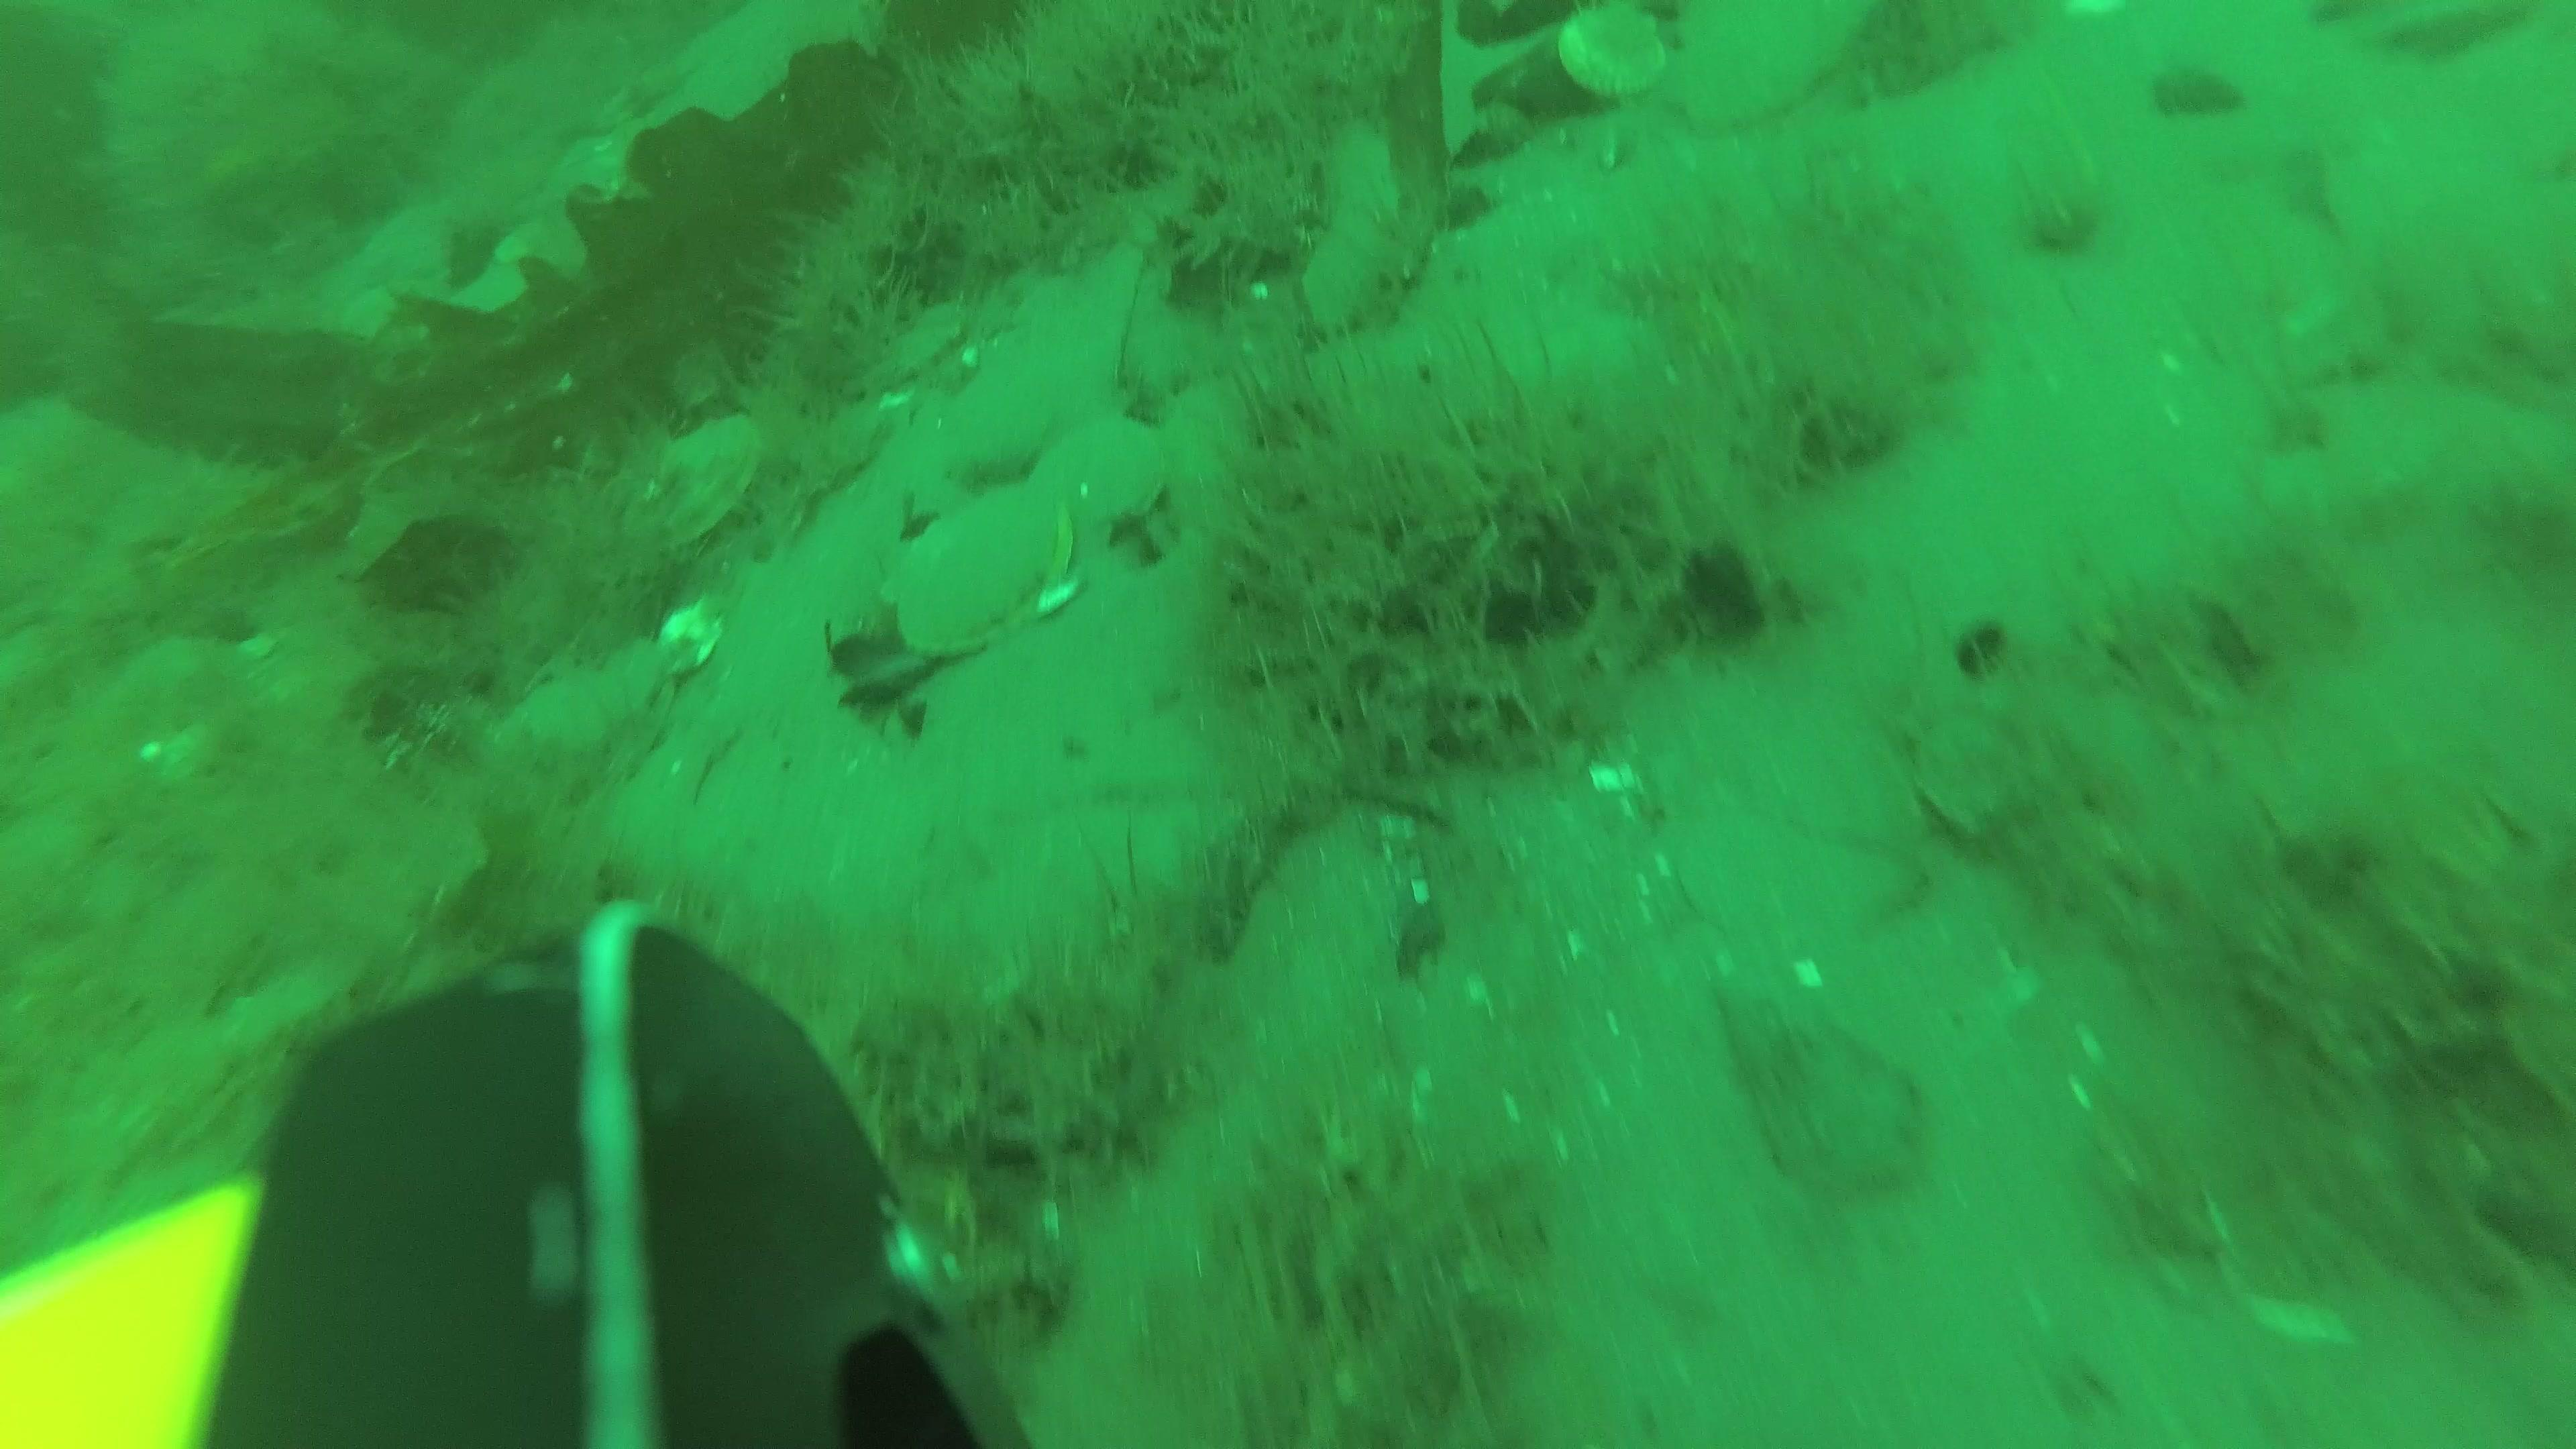scallop: (888, 497, 1072, 648), (628, 421, 763, 540), (1030, 419, 1164, 525), (1557, 5, 1674, 92), (495, 205, 607, 280), (543, 131, 648, 196)
